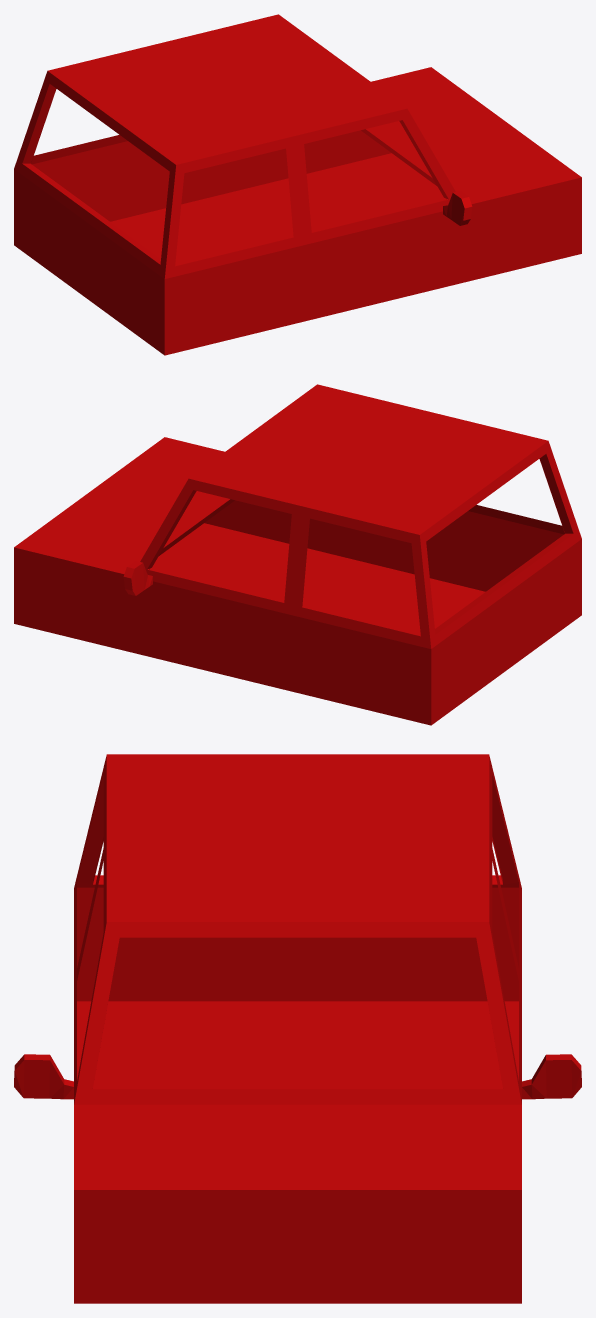
The model's file is main_car_body.obj.
3 renders of one model, top to bottom at view 1: azimuth 30°, elevation 25°; view 2: azimuth 150°, elevation 25°; view 3: azimuth 270°, elevation 25°, orthographic. The views are drawn at different scales.
Visible parts, largest first — view 1: Cube.226_Cube.009; view 2: Cube.226_Cube.009; view 3: Cube.226_Cube.009.
Boxes of the visible parts, x1=… form: Cube.226_Cube.009: x1=14, y1=14, x2=581, y2=355; Cube.226_Cube.009: x1=14, y1=384, x2=581, y2=725; Cube.226_Cube.009: x1=14, y1=754, x2=581, y2=1303.
Size of the model in its own units: 3.98 by 1.61 by 3.16.
